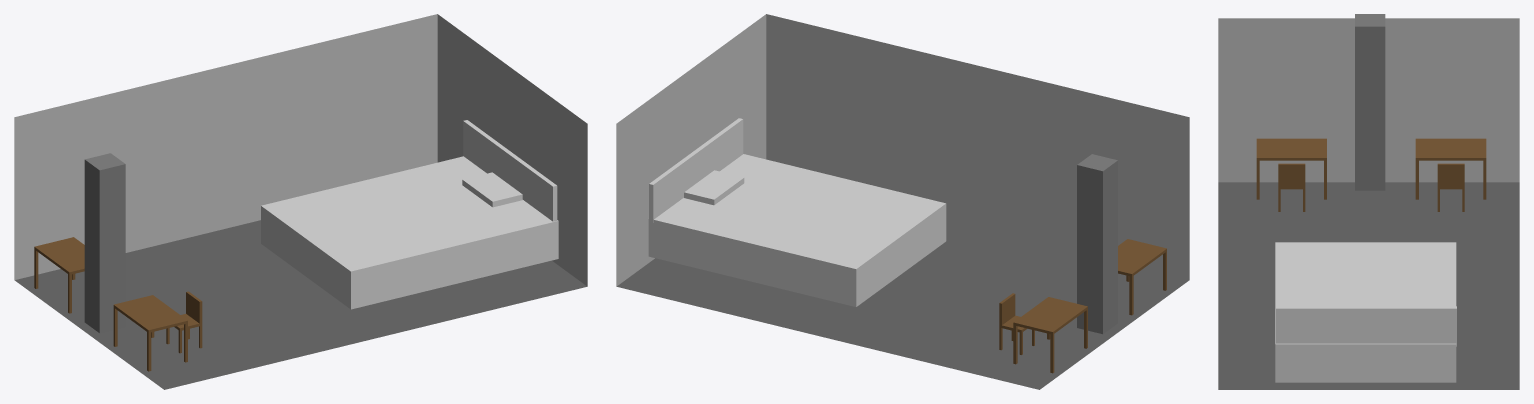
Rendered from room5.glb.
The picture shows the model from 3 angles, left to right: view 1: azimuth 30°, elevation 25°; view 2: azimuth 150°, elevation 25°; view 3: azimuth 270°, elevation 25°; orthographic projection.
Parts seen in each view (by area): view 1: walls, floor, Bed, pillar_zone1, TableChair, BedHead, Pillow; view 2: walls, floor, Bed, pillar_zone1, TableChair, BedHead, Pillow; view 3: walls, floor, Bed, BedHead, TableChair, pillar_zone1.
Part boxes in pixels (x1=…): walls: x1=14, y1=14, x2=587, y2=286; floor: x1=15, y1=220, x2=587, y2=389; Bed: x1=261, y1=156, x2=558, y2=309; pillar_zone1: x1=84, y1=153, x2=125, y2=333; TableChair: x1=34, y1=237, x2=202, y2=371; BedHead: x1=463, y1=120, x2=557, y2=221; Pillow: x1=462, y1=172, x2=522, y2=207; walls: x1=616, y1=14, x2=1189, y2=286; floor: x1=616, y1=221, x2=1188, y2=389; Bed: x1=648, y1=154, x2=946, y2=306; pillar_zone1: x1=1077, y1=154, x2=1117, y2=334; TableChair: x1=999, y1=239, x2=1166, y2=373; BedHead: x1=649, y1=118, x2=743, y2=222; Pillow: x1=684, y1=170, x2=744, y2=205; walls: x1=1218, y1=18, x2=1519, y2=182; floor: x1=1218, y1=182, x2=1519, y2=389; Bed: x1=1275, y1=242, x2=1456, y2=382; BedHead: x1=1276, y1=306, x2=1456, y2=346; TableChair: x1=1256, y1=138, x2=1486, y2=211; pillar_zone1: x1=1355, y1=14, x2=1385, y2=190.
Bounding box in the file's own units: 8.15 × 3.11 × 5.
